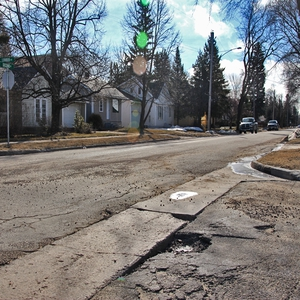pothole: (150, 229, 214, 259)
